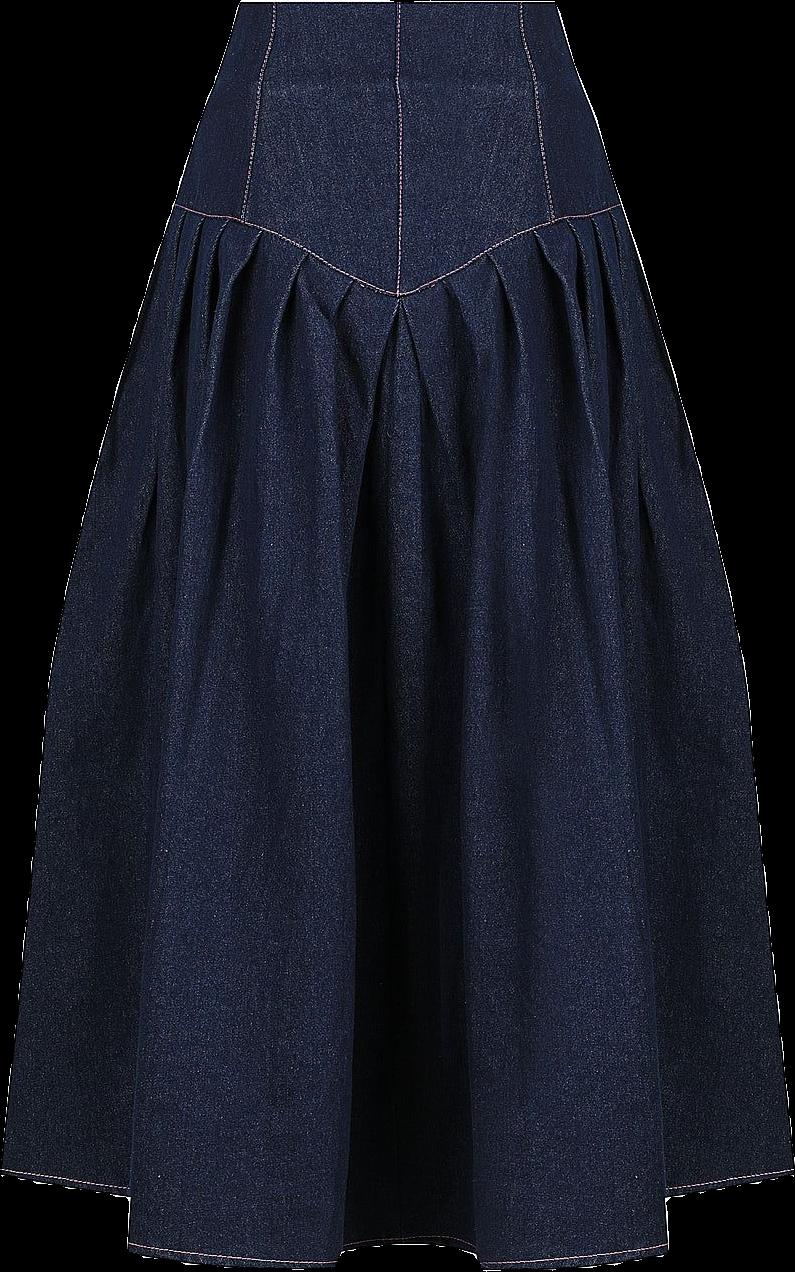Hemline: (0, 1161, 794, 1271)
Waistline: (163, 195, 629, 305), (229, 0, 557, 16)
